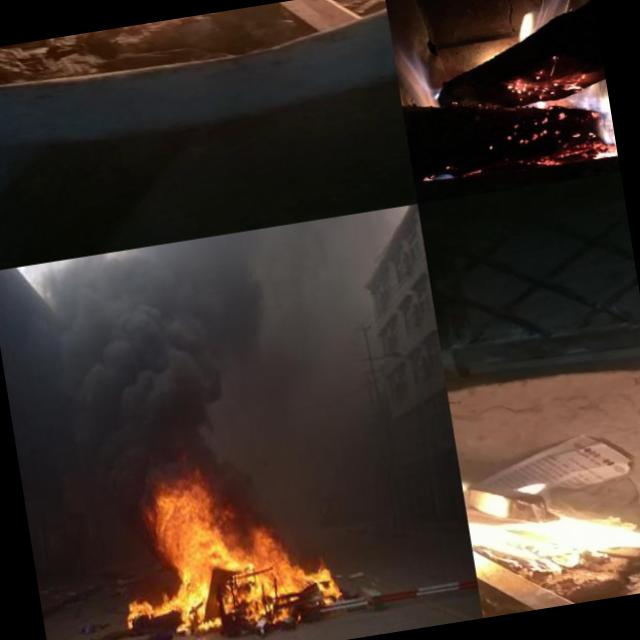fire: (102, 466, 335, 632), (457, 418, 640, 597), (392, 39, 444, 108), (570, 74, 616, 150), (518, 0, 575, 35)
smoke: (0, 241, 220, 510), (182, 229, 286, 406), (261, 209, 401, 325)
